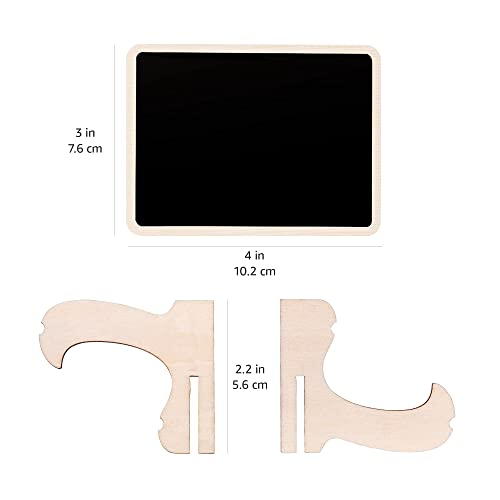22in: (236, 365, 264, 373)
3in: (76, 128, 94, 137)
76cm: (68, 144, 102, 153)
